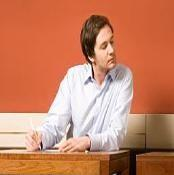cheating: (20, 12, 135, 154)
